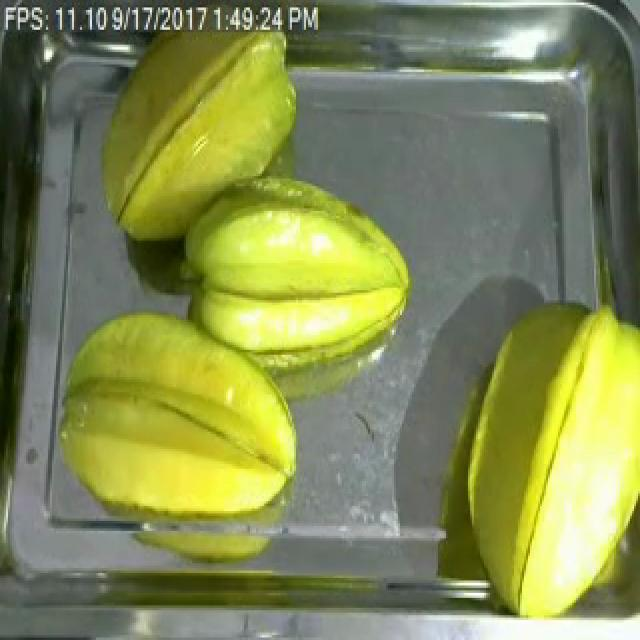fruit: (450, 290, 640, 625), (44, 298, 312, 533), (172, 169, 424, 372), (88, 28, 312, 256)
